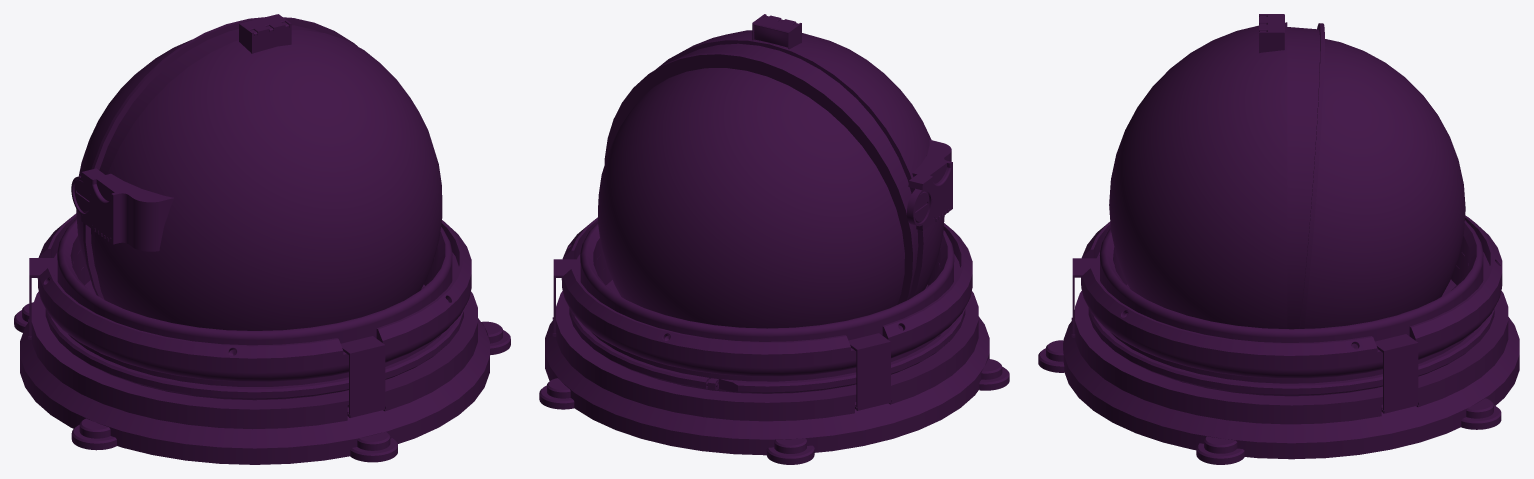
File: helmet.glb
3 renders of one model, left to right at view 1: azimuth 30°, elevation 25°; view 2: azimuth 150°, elevation 25°; view 3: azimuth 270°, elevation 25°, orthographic. The views are drawn at different scales.
Parts seen in each view (by area): view 1: Helmet v12; view 2: Helmet v12; view 3: Helmet v12.
Boxes of the visible parts, x1,y1,x2,y2 form: Helmet v12: (14,14,510,464); Helmet v12: (539,14,1009,464); Helmet v12: (1038,14,1519,464).
Size of what is drawn, in the model's own units: 11 by 8.5 by 10.94.
